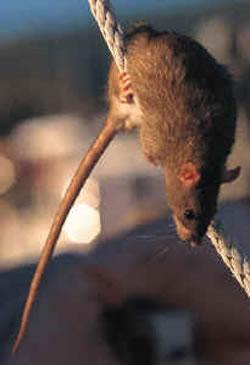rat: (12, 25, 242, 352)
